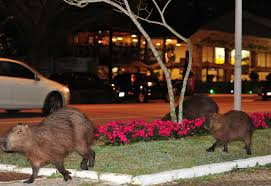capivara: (1, 107, 97, 186), (202, 111, 253, 160)
